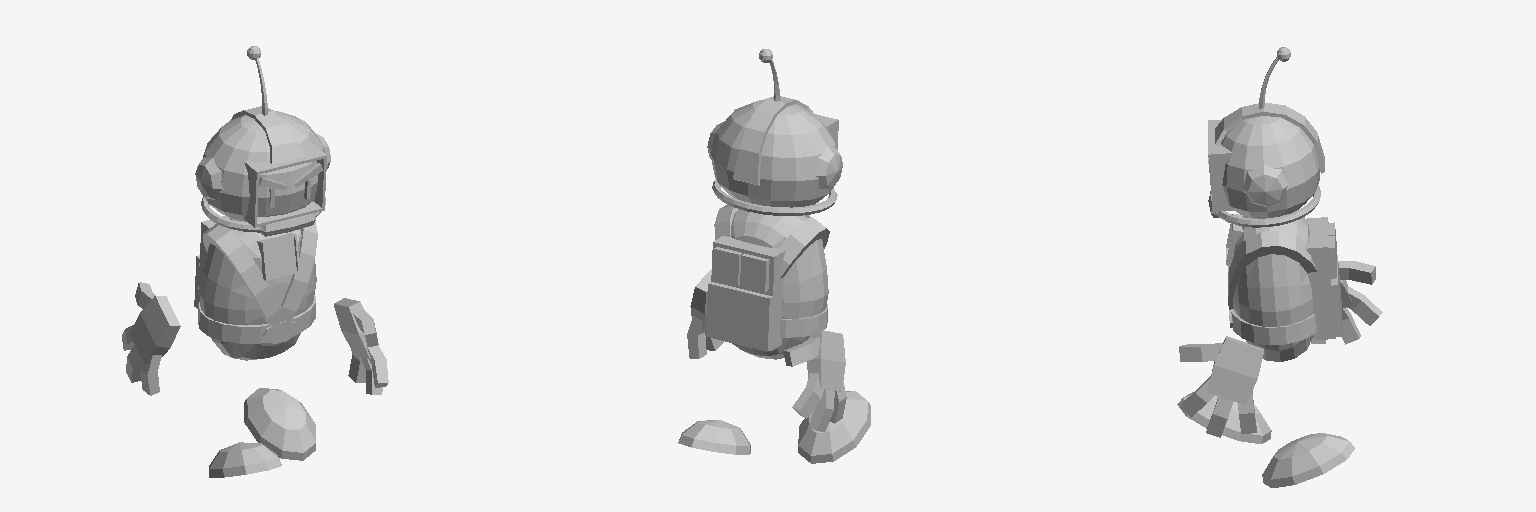
Rendered from bomberman_000001.obj.
3 views of the same model, side by side, from view 1: azimuth 30°, elevation 25°; view 2: azimuth 150°, elevation 25°; view 3: azimuth 270°, elevation 25° (orthographic).
Visible parts, largest first — view 1: BM_BODY.002_Mesh.009, BM_Head.002_Mesh.005, BM_Head.001_Mesh.004, BM_BODY.001_Mesh.008, L_Foot_Mesh, R_Hand_Mesh.003, L_Hand_Mesh.002, R_Foot_Mesh.001; view 2: BM_BODY.002_Mesh.009, BM_Head.002_Mesh.005, BM_BODY.001_Mesh.008, BM_Head.001_Mesh.004, R_Hand_Mesh.003, R_Foot_Mesh.001, L_Foot_Mesh, L_Hand_Mesh.002; view 3: BM_BODY.002_Mesh.009, BM_Head.002_Mesh.005, BM_BODY.001_Mesh.008, BM_Head.001_Mesh.004, L_Hand_Mesh.002, L_Foot_Mesh, R_Hand_Mesh.003, R_Foot_Mesh.001.
Part boxes in pixels (bbox=[...]): BM_BODY.002_Mesh.009: bbox=[194, 216, 317, 343]; BM_Head.002_Mesh.005: bbox=[203, 111, 327, 236]; BM_Head.001_Mesh.004: bbox=[195, 106, 330, 232]; BM_BODY.001_Mesh.008: bbox=[199, 218, 316, 360]; L_Foot_Mesh: bbox=[244, 388, 315, 460]; R_Hand_Mesh.003: bbox=[122, 282, 180, 395]; L_Hand_Mesh.002: bbox=[334, 298, 388, 394]; R_Foot_Mesh.001: bbox=[209, 442, 281, 477]; BM_BODY.002_Mesh.009: bbox=[706, 204, 829, 351]; BM_Head.002_Mesh.005: bbox=[710, 99, 835, 207]; BM_BODY.001_Mesh.008: bbox=[731, 209, 828, 359]; BM_Head.001_Mesh.004: bbox=[707, 96, 842, 215]; R_Hand_Mesh.003: bbox=[783, 330, 846, 431]; R_Foot_Mesh.001: bbox=[798, 391, 870, 463]; L_Foot_Mesh: bbox=[678, 420, 750, 454]; L_Hand_Mesh.002: bbox=[687, 269, 723, 358]; BM_BODY.002_Mesh.009: bbox=[1226, 214, 1341, 345]; BM_Head.002_Mesh.005: bbox=[1208, 116, 1319, 218]; BM_BODY.001_Mesh.008: bbox=[1233, 216, 1312, 361]; BM_Head.001_Mesh.004: bbox=[1208, 103, 1324, 227]; L_Hand_Mesh.002: bbox=[1179, 336, 1263, 437]; L_Foot_Mesh: bbox=[1262, 433, 1354, 487]; R_Hand_Mesh.003: bbox=[1311, 261, 1382, 344]; R_Foot_Mesh.001: bbox=[1177, 392, 1271, 443].
Bounding box in the file's own units: 3.85 × 8.09 × 3.62.